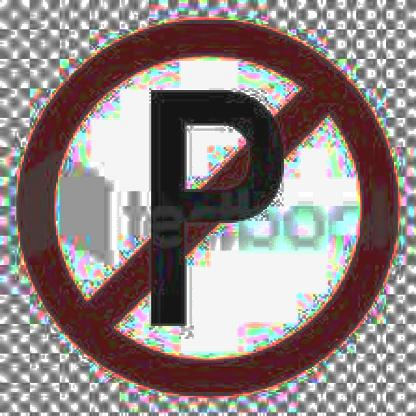No parking: (10, 19, 404, 388)
